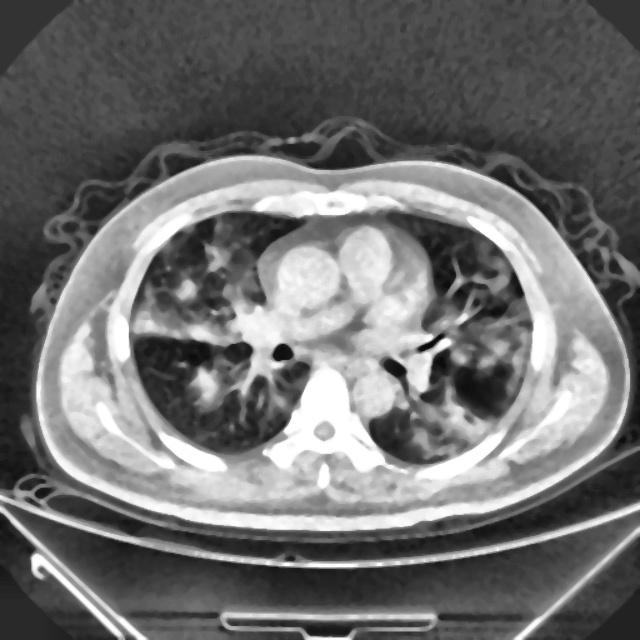covid: (28, 132, 635, 540)
